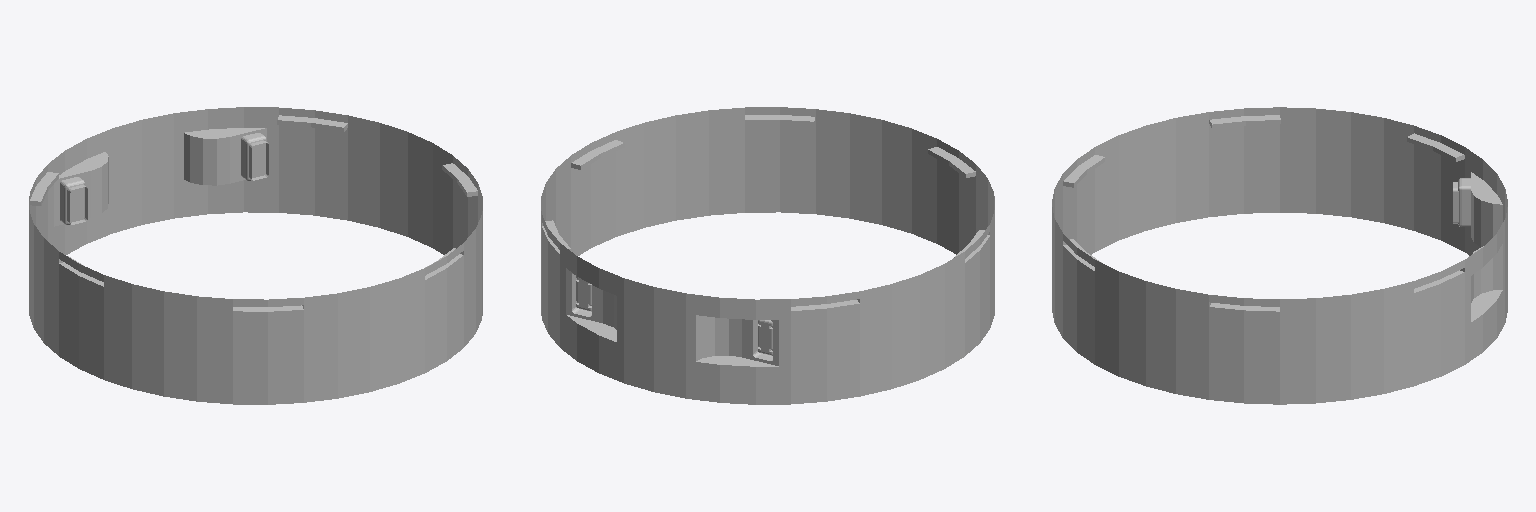
File: Bottombase.obj
3 views of the same model, side by side, from view 1: azimuth 30°, elevation 25°; view 2: azimuth 150°, elevation 25°; view 3: azimuth 270°, elevation 25° (orthographic).
Visible parts, largest first — view 1: laser_cannon_turret_g_laser_cannon_turret; view 2: laser_cannon_turret_g_laser_cannon_turret; view 3: laser_cannon_turret_g_laser_cannon_turret.
Part boxes in pixels (x1,y1,x2,y2): laser_cannon_turret_g_laser_cannon_turret: (29,107,482,404); laser_cannon_turret_g_laser_cannon_turret: (541,107,994,404); laser_cannon_turret_g_laser_cannon_turret: (1052,107,1507,404).
Size of the model in its own units: 1.08 by 0.2769 by 1.09.